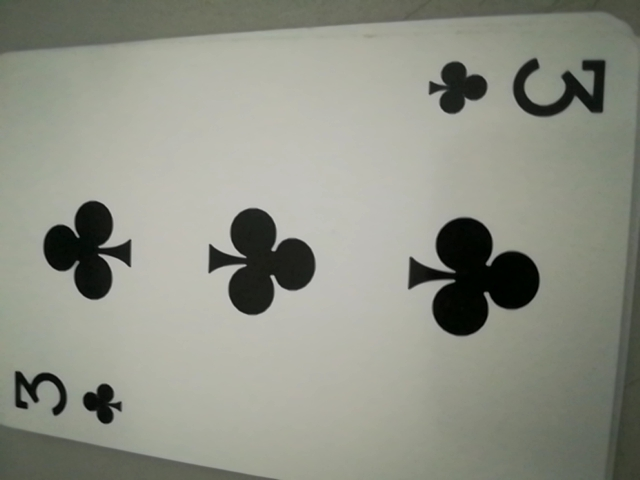mh 3: (425, 48, 609, 129), (6, 366, 127, 433)
